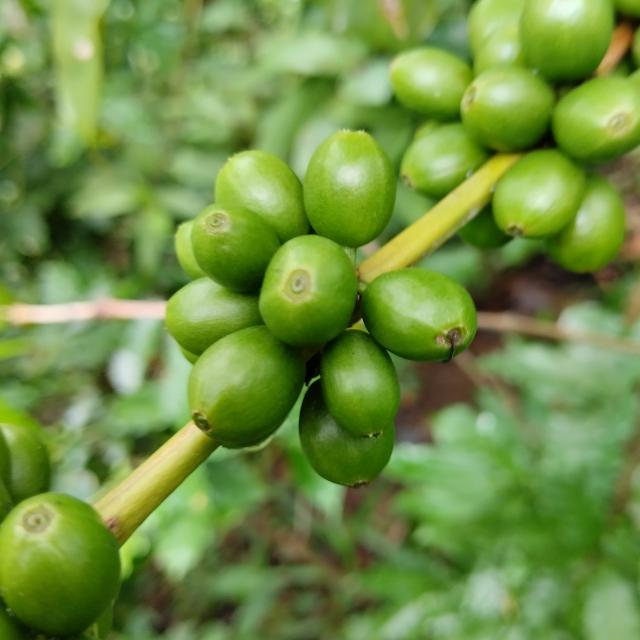green: (0, 493, 120, 637), (188, 325, 306, 447), (259, 235, 358, 348), (361, 267, 478, 362), (303, 129, 396, 248), (299, 380, 395, 488), (215, 150, 310, 242), (321, 329, 401, 437), (461, 64, 556, 152), (493, 149, 586, 237), (191, 203, 280, 292), (164, 277, 264, 356), (400, 122, 490, 198), (174, 220, 206, 279)
